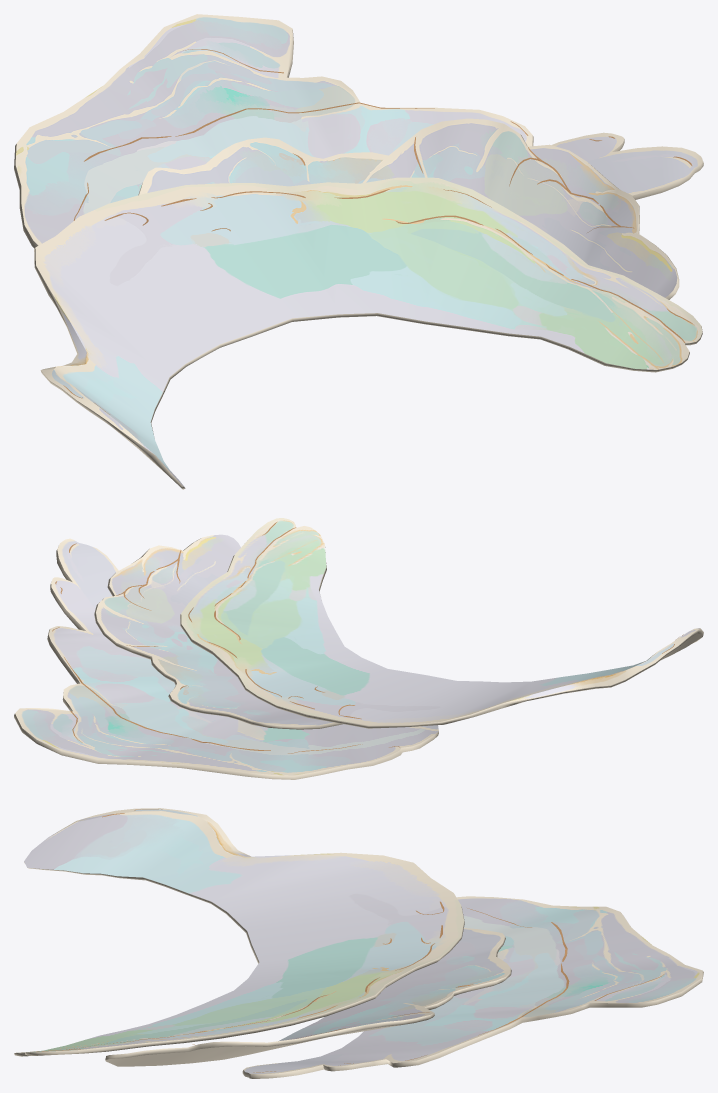
File: Mesh_Home_BH_Conch_SM.fbx
3 views of the same model, one above another, from view 1: azimuth 30°, elevation 25°; view 2: azimuth 150°, elevation 25°; view 3: azimuth 270°, elevation 25° (orthographic). The views are drawn at different scales.
Parts seen in each view (by area): view 1: Mesh_Home_BH_Conch; view 2: Mesh_Home_BH_Conch; view 3: Mesh_Home_BH_Conch.
Part boxes in pixels (x1,y1,x2,y2): Mesh_Home_BH_Conch: [14, 14, 703, 489]; Mesh_Home_BH_Conch: [14, 518, 703, 779]; Mesh_Home_BH_Conch: [14, 808, 703, 1078].
Size of the model in its own units: 3133 by 333 by 3254.
1 material, 1 textured.
